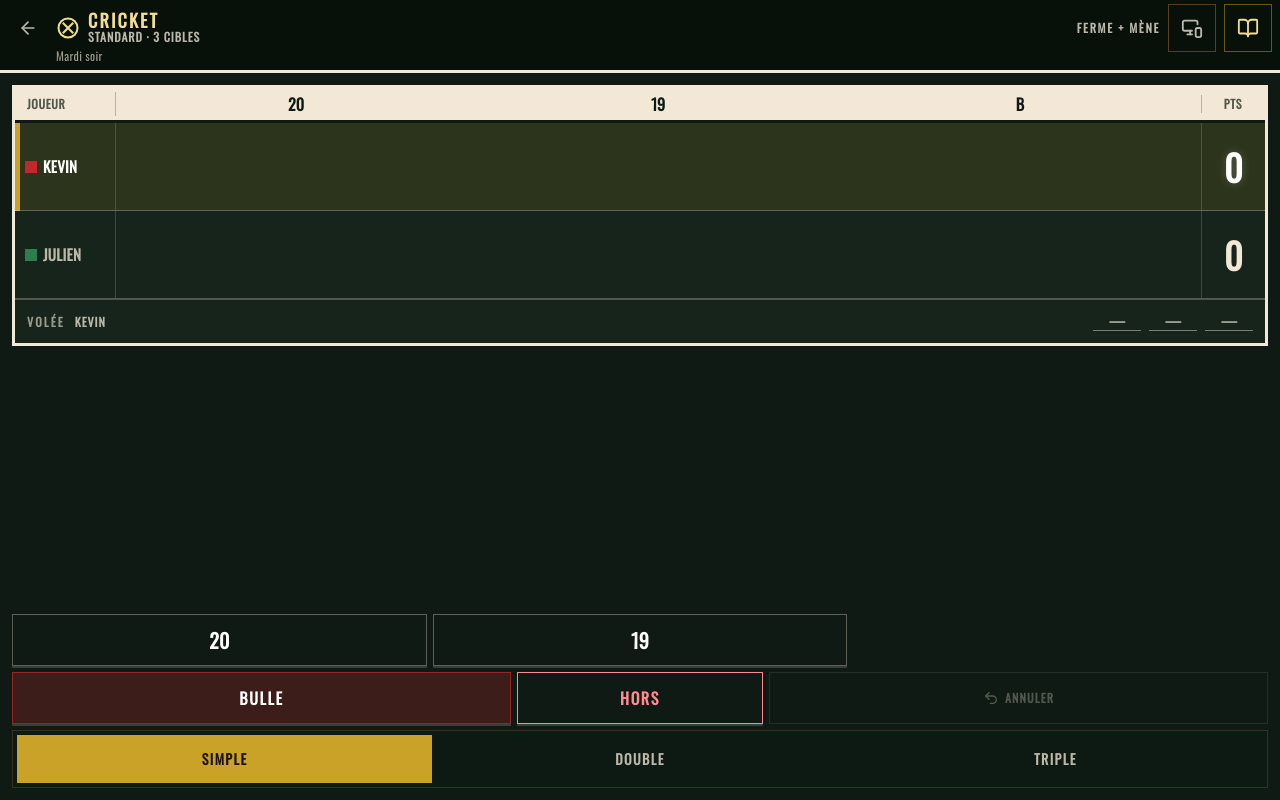
it: Cricket — écran de jeu › pose les marques et compte les points dès la fléchette saisie
This screenshot has width=1280, height=800.
Expected: the element named "Points de Kevin" reads "0", [1224,140,1243,192]
Click the button "Triple" at (1055, 759), box [848,735,1263,783]
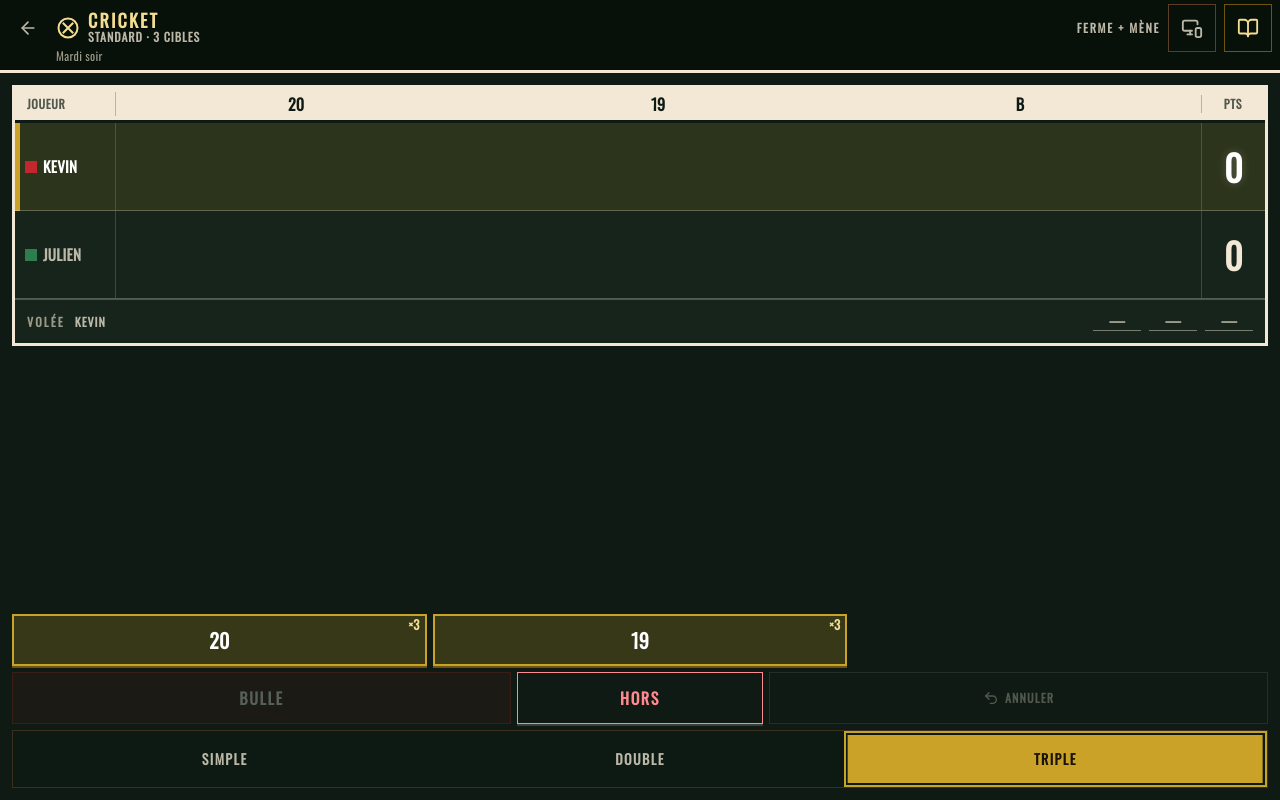
Click the button "×3 20" at (219, 640), box [12,614,427,666]
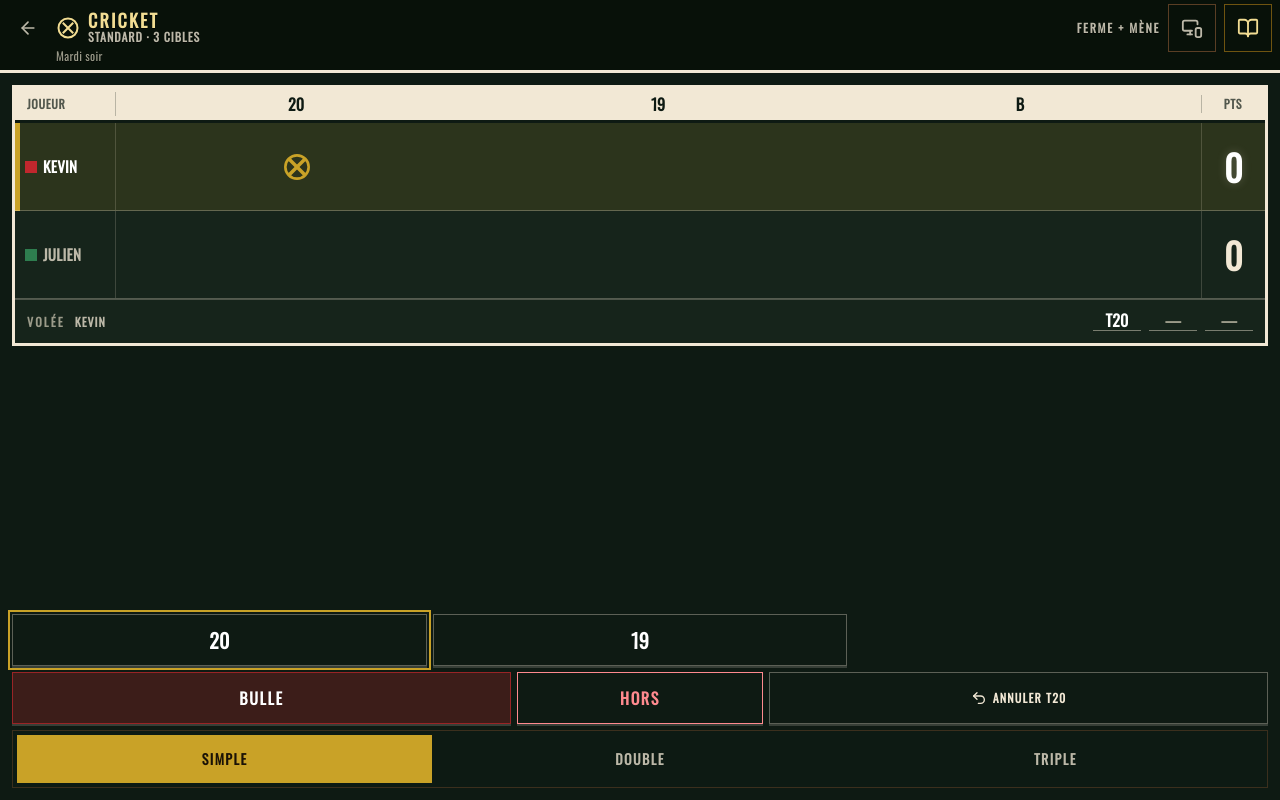
Expected: the element named "Points de Kevin" reads "0", [1224,140,1243,192]
Click the button "Triple" at (1055, 759), box [848,735,1263,783]
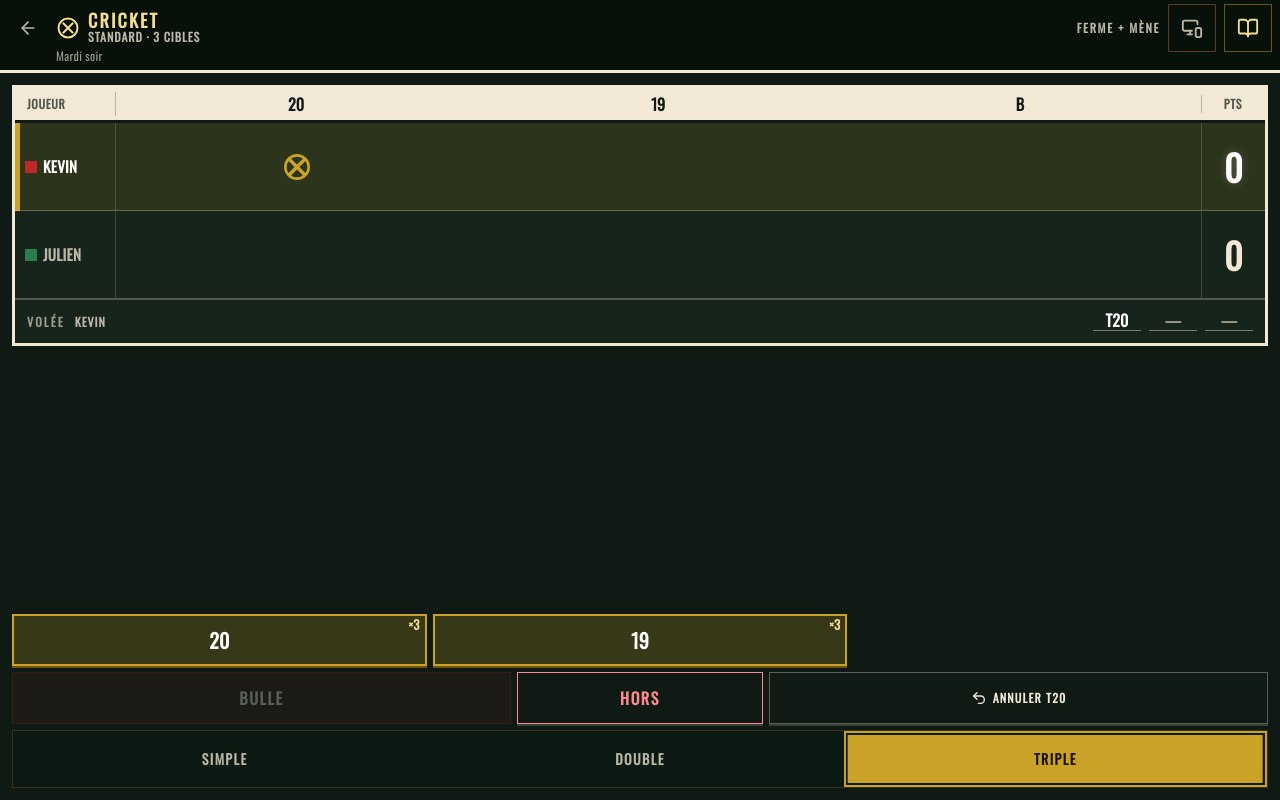
Click the button "×3 20" at (219, 640), box [12,614,427,666]
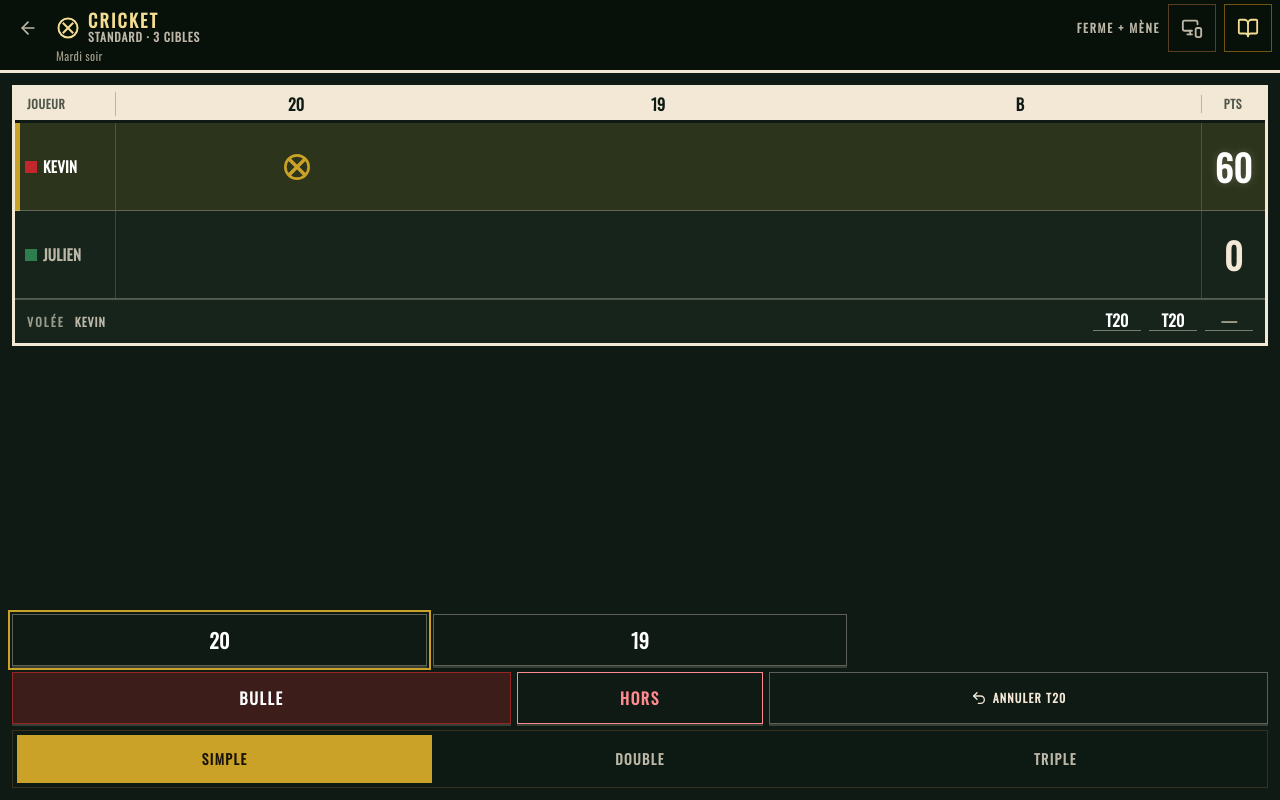
Expected: the element named "Points de Kevin" reads "60", [1215,140,1252,192]
